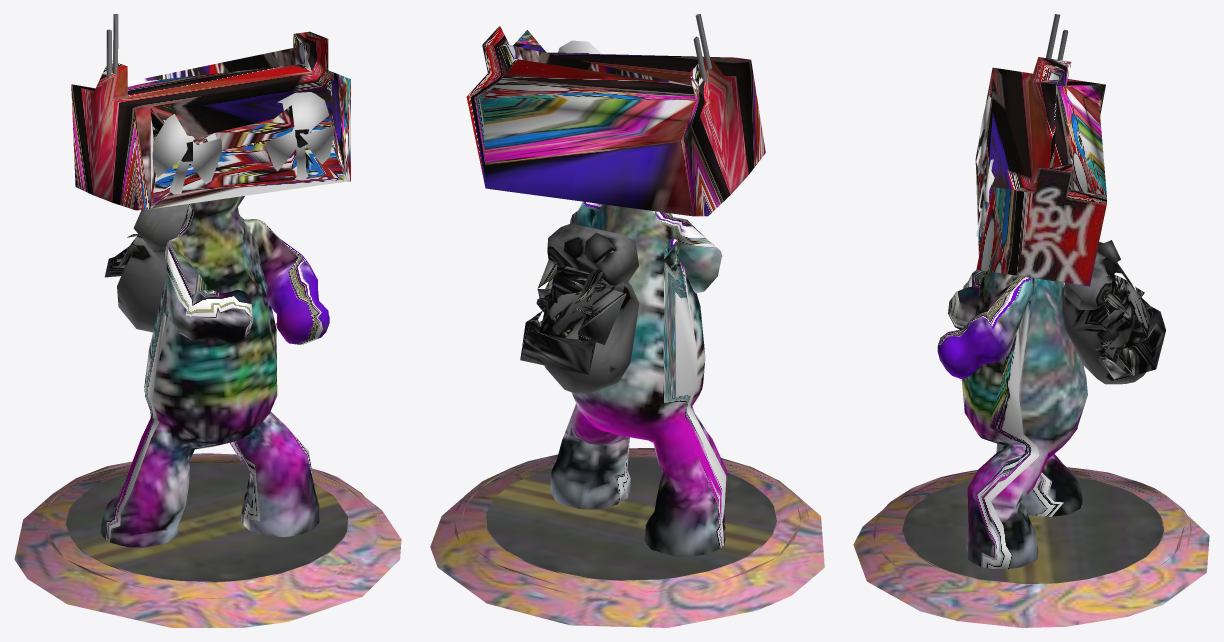
3 views of the same model, side by side, from view 1: azimuth 30°, elevation 25°; view 2: azimuth 150°, elevation 25°; view 3: azimuth 270°, elevation 25° (orthographic). The views are drawn at different scales.
Size of the model in its own units: 1.44 by 2.22 by 1.43.
8 materials, 5 textured.
